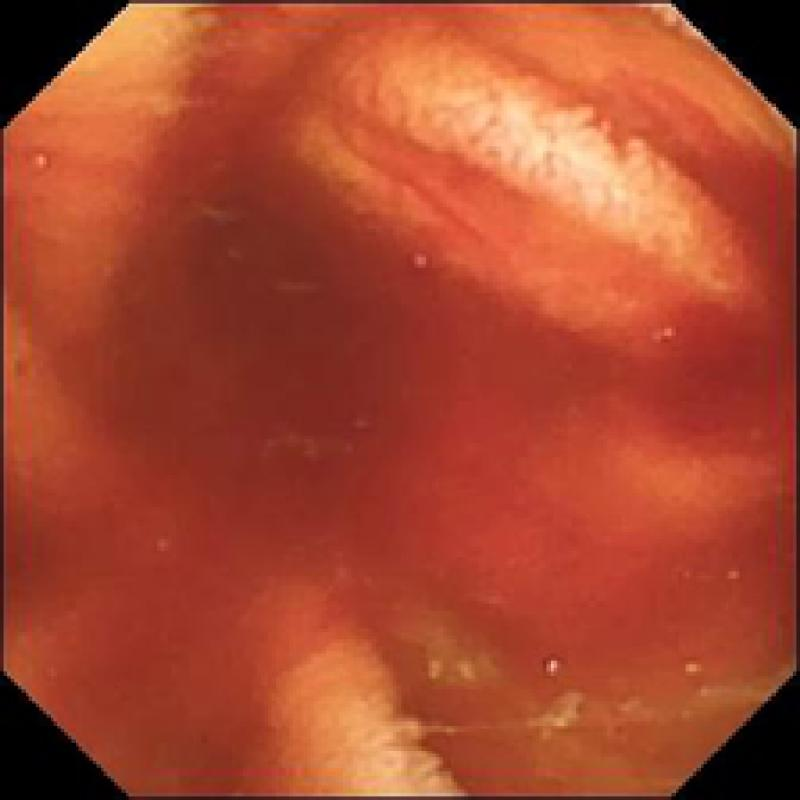bleeding: (0, 3, 800, 778)
